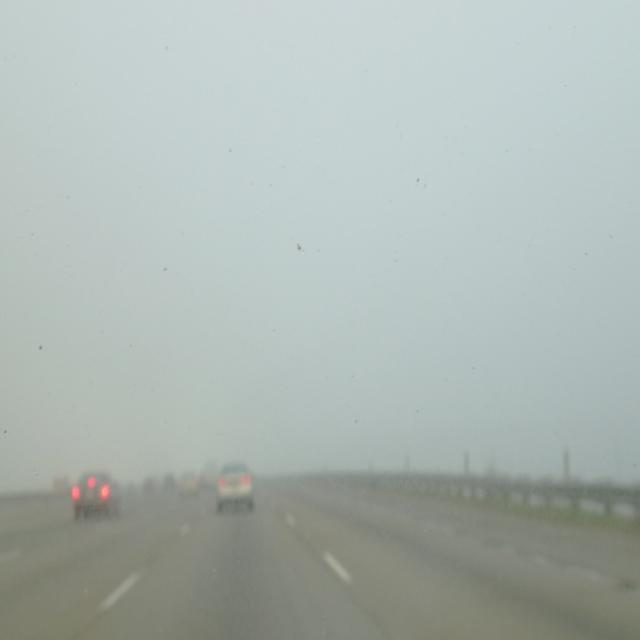car: (70, 470, 113, 521), (216, 461, 254, 514), (178, 471, 198, 496)
